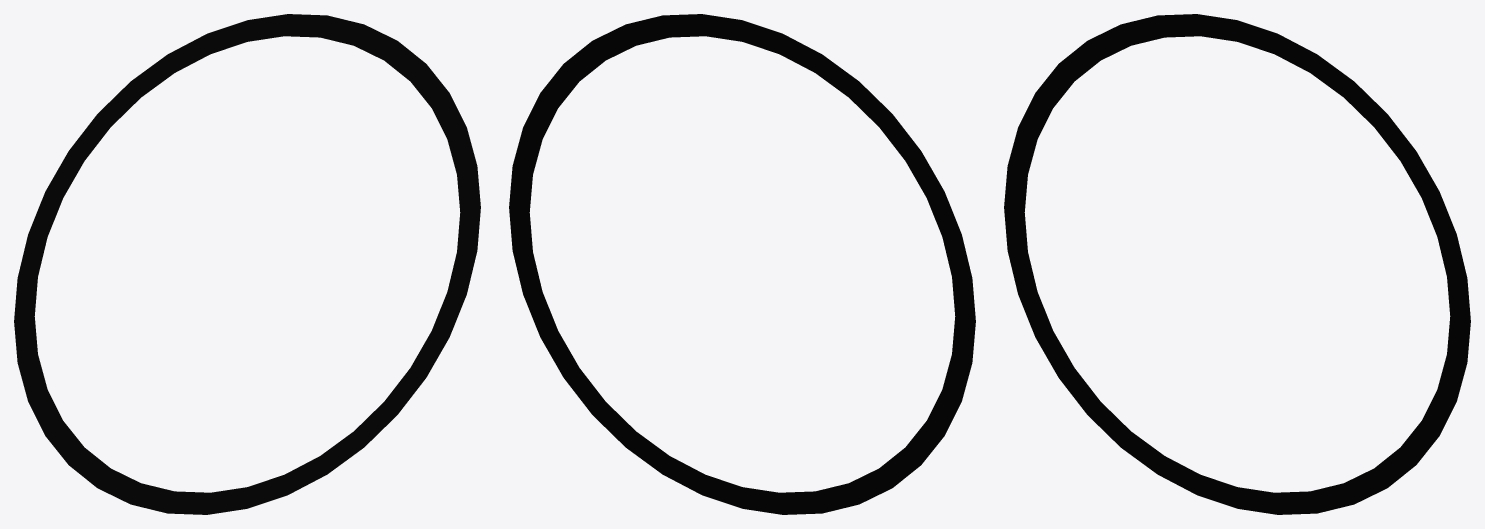
Rendered from original-6.obj.
The picture shows the model from 3 angles, left to right: view 1: azimuth 30°, elevation 25°; view 2: azimuth 150°, elevation 25°; view 3: azimuth 330°, elevation 25°; orthographic projection.
Visible parts, largest first — view 1: #ID47; view 2: #ID47; view 3: #ID47.
Boxes of the visible parts, left/top/right/bottom form: #ID47: left=14, top=14, right=480, bottom=514; #ID47: left=509, top=14, right=975, bottom=514; #ID47: left=1004, top=14, right=1470, bottom=514.
Size of the model in its own units: 0.0307 by 0.0307 by 0.
